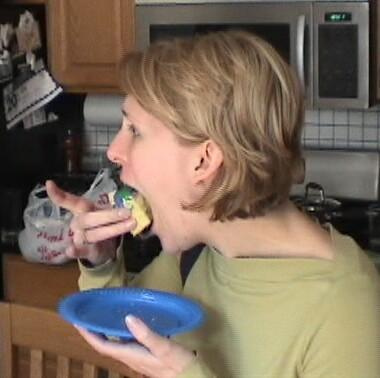without_mask: (110, 80, 232, 260)
